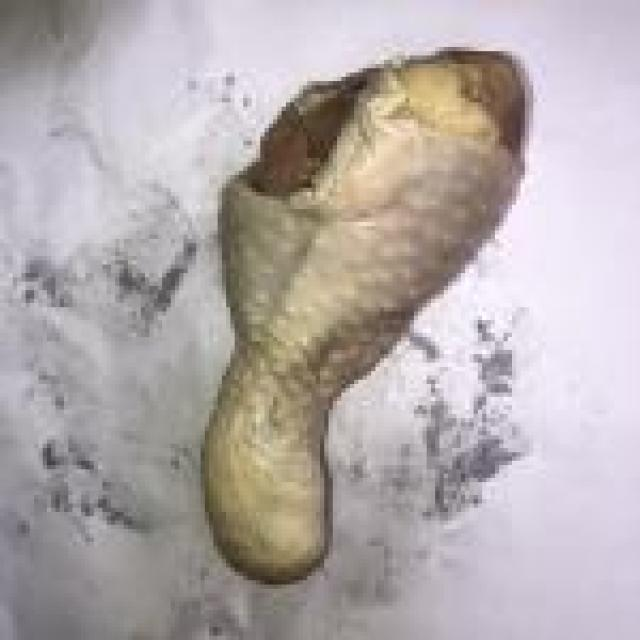leg: (197, 34, 530, 603)
